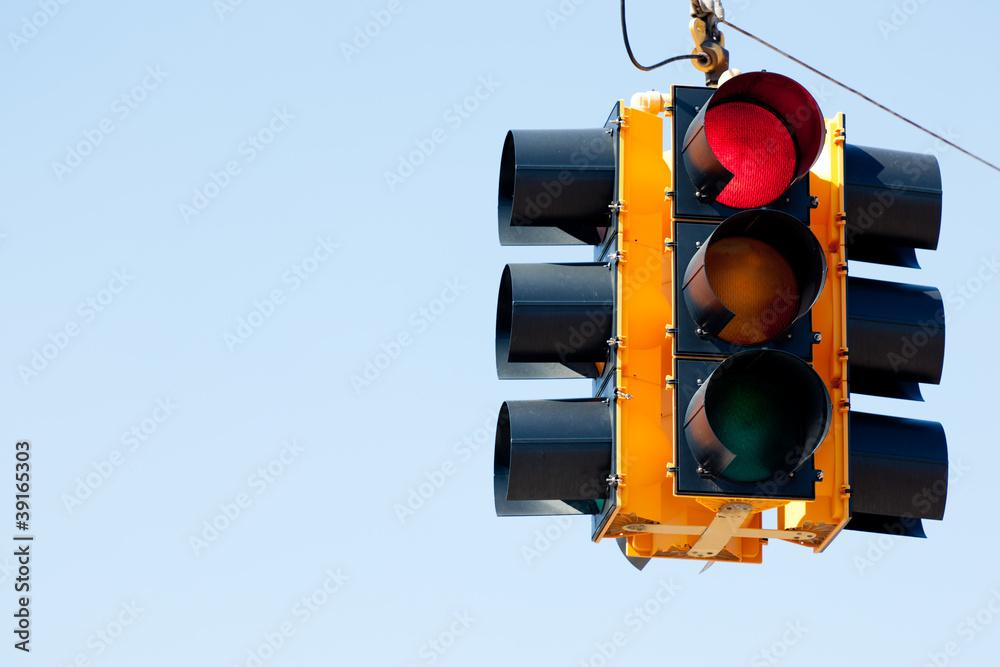red: (658, 47, 838, 497)
